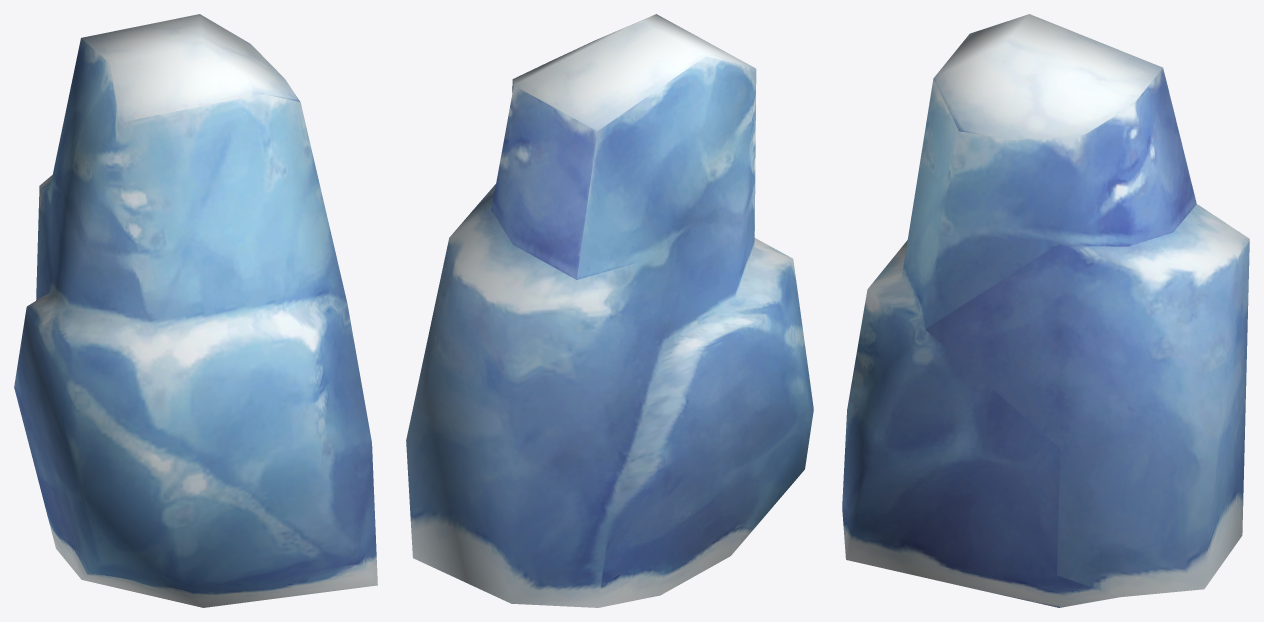
Rendered from SM_stoneA_04.fbx.
3 renders of one model, left to right at view 1: azimuth 30°, elevation 25°; view 2: azimuth 150°, elevation 25°; view 3: azimuth 270°, elevation 25°, orthographic. The views are drawn at different scales.
Parts seen in each view (by area): view 1: SM_stoneA_04; view 2: SM_stoneA_04; view 3: SM_stoneA_04.
Part boxes in pixels (x1,y1,x2,y2): SM_stoneA_04: (14, 14, 377, 607); SM_stoneA_04: (406, 14, 813, 607); SM_stoneA_04: (842, 14, 1249, 607).
Bounding box in the file's own units: 4.8 × 7.83 × 5.77.
